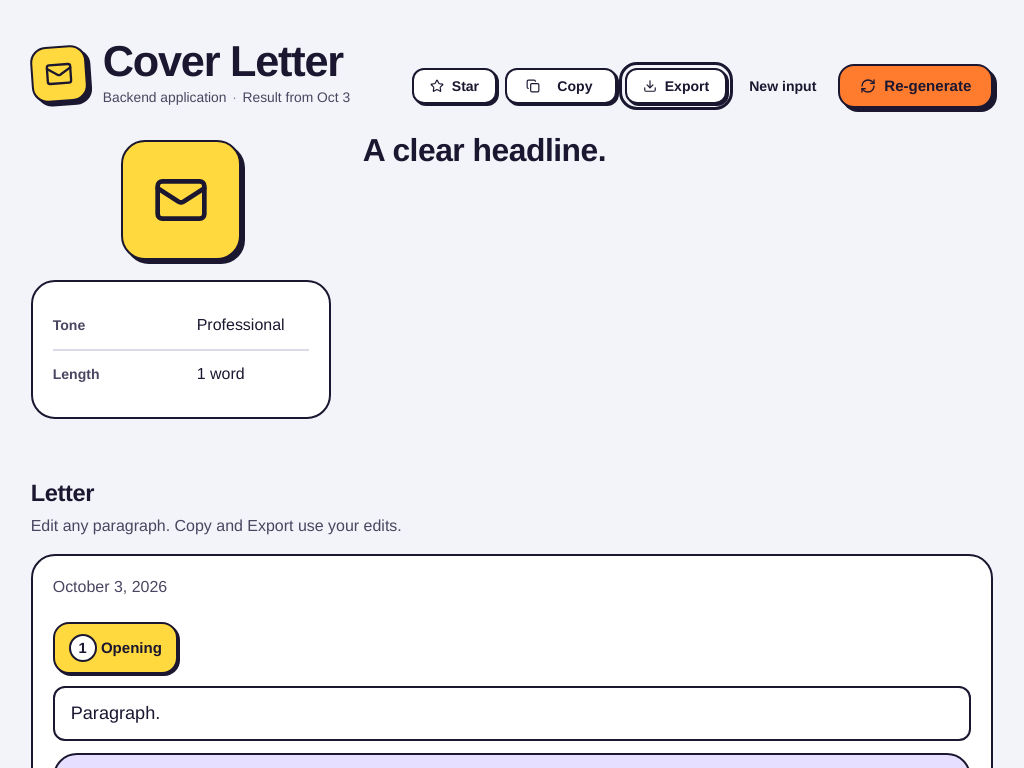
Test: ToolResultScreen states › says so on the page when the PDF cannot be made, and tries again
The width and height of the screenshot is (1024, 768).
Press Enter in the button with aria-label "Export result", box x1=625 y1=68 x2=727 y2=104
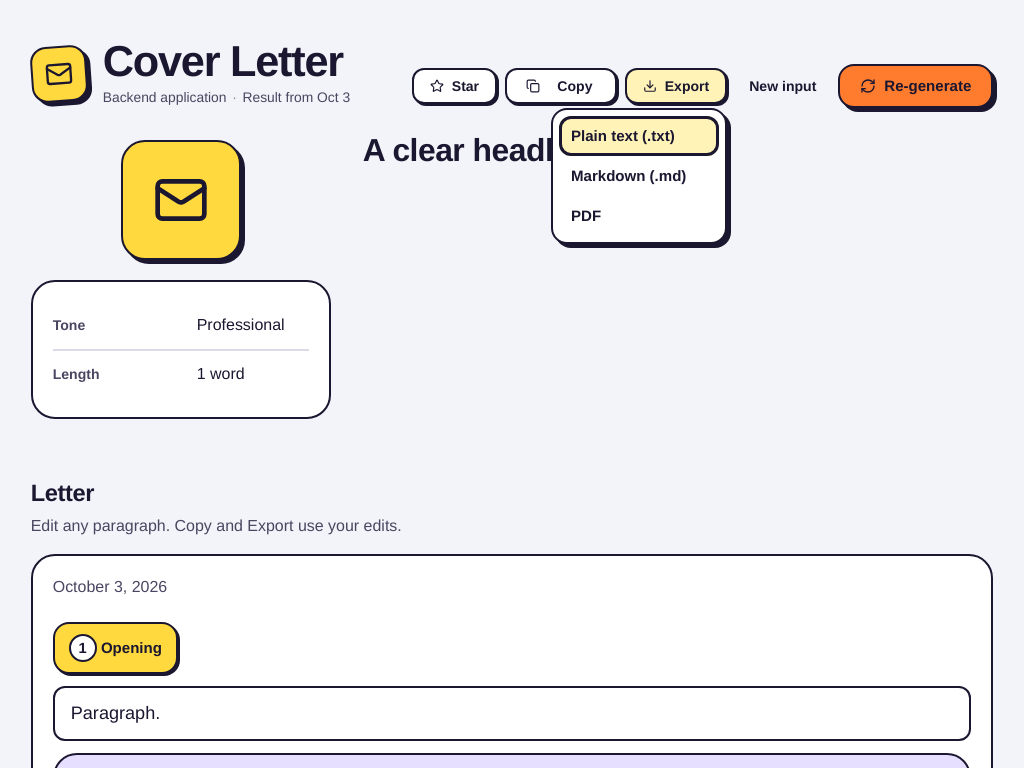
Click the menu item "PDF" at [586, 216], box x1=571 y1=206 x2=601 y2=226
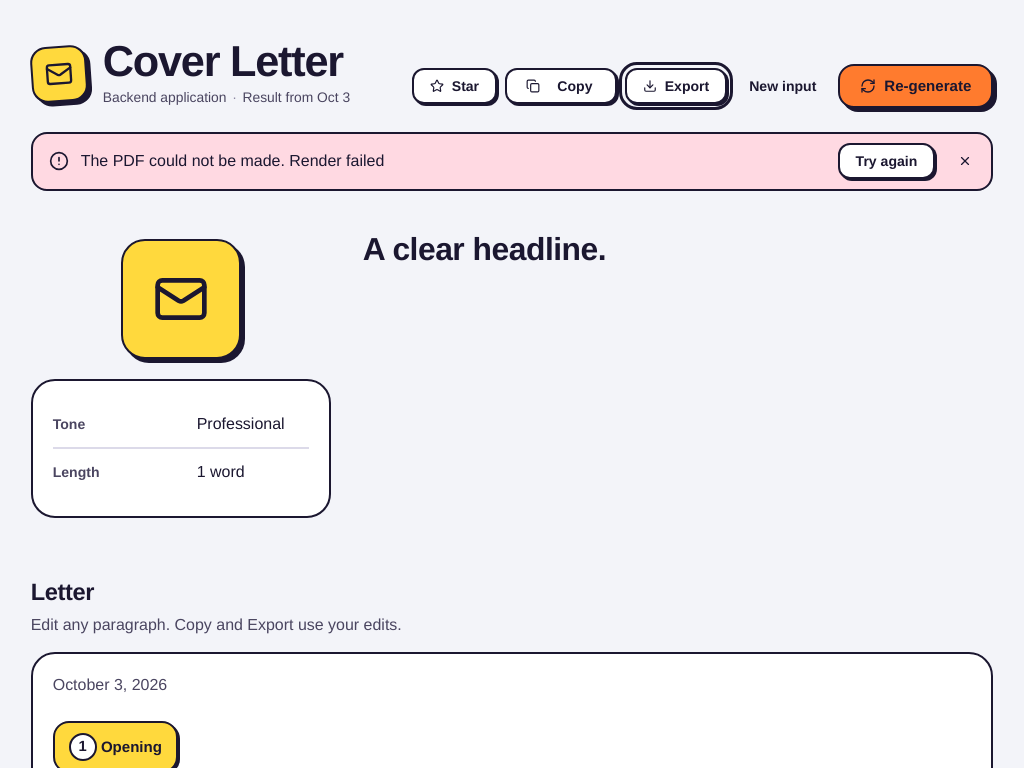
Check: the message shows "The PDF could not be made.", box x1=81 y1=151 x2=384 y2=171
Click the button "Try again" at [886, 161], box x1=838 y1=143 x2=935 y2=179
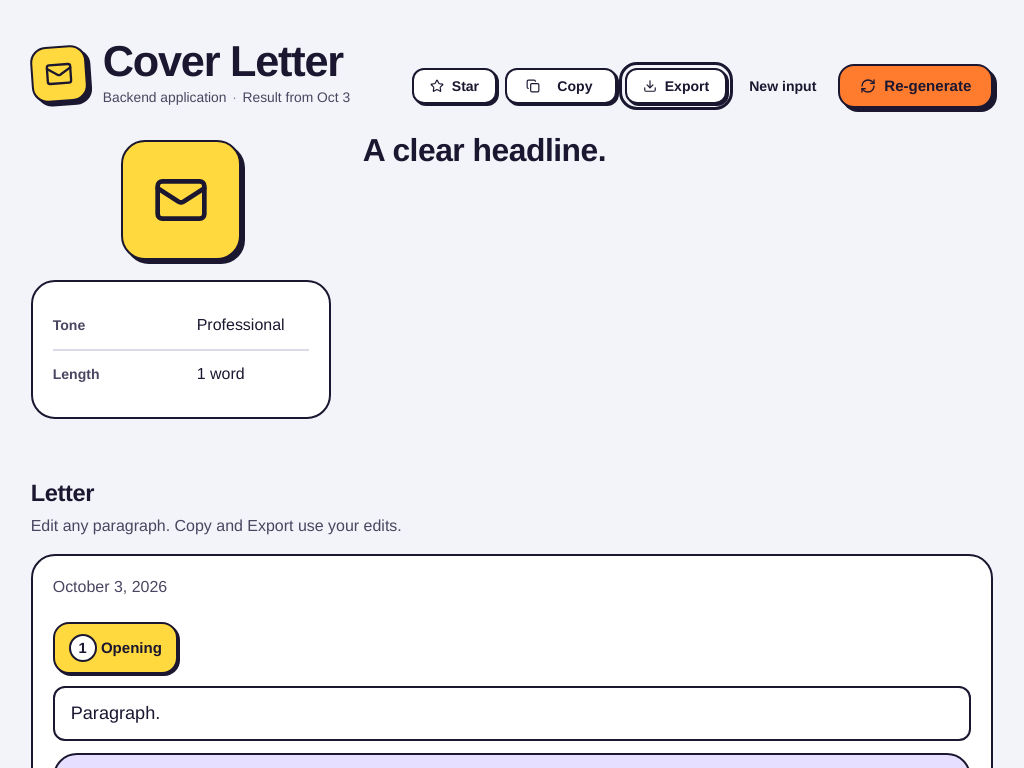
Check: the message "The PDF could not be made. Render failed Try again" is gone
